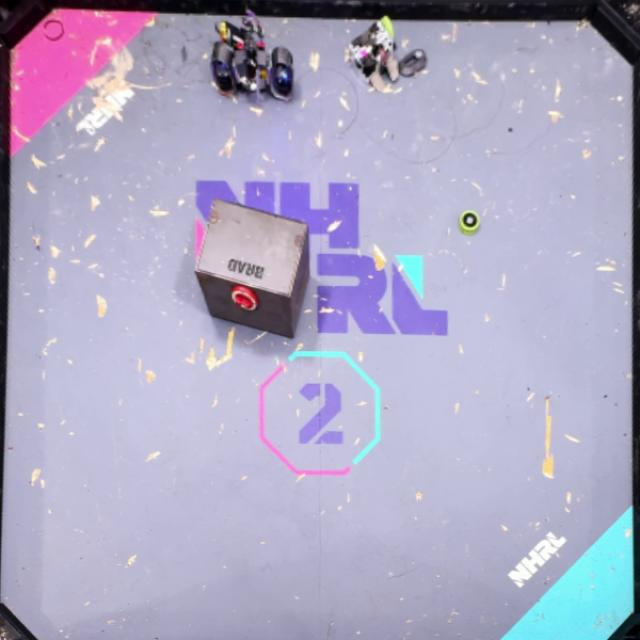housebot: (192, 196, 310, 340)
robot: (209, 6, 297, 102), (343, 14, 402, 97)
